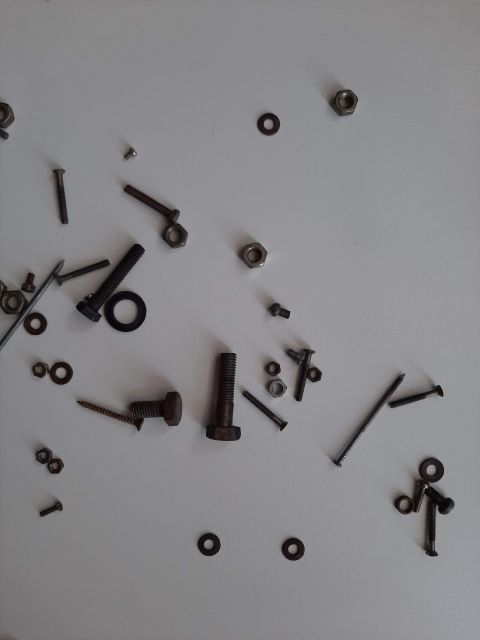gwozdz: (305, 355, 415, 475)
nakretka: (295, 65, 385, 125), (235, 215, 295, 275), (5, 425, 65, 475), (135, 215, 185, 265), (245, 355, 305, 385)
podkladka: (95, 275, 155, 335), (5, 335, 75, 385), (185, 505, 235, 565), (205, 95, 275, 135), (265, 505, 305, 565), (395, 445, 445, 475)
sruba: (65, 235, 155, 325), (185, 335, 245, 455), (395, 475, 475, 565), (365, 365, 445, 415), (105, 175, 185, 215), (105, 385, 185, 425), (275, 325, 325, 385), (35, 155, 75, 215), (15, 495, 75, 525)
